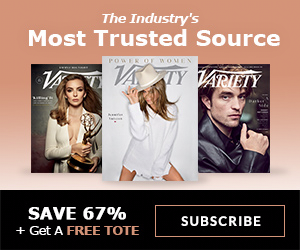fake_button: (145, 201, 287, 243)
